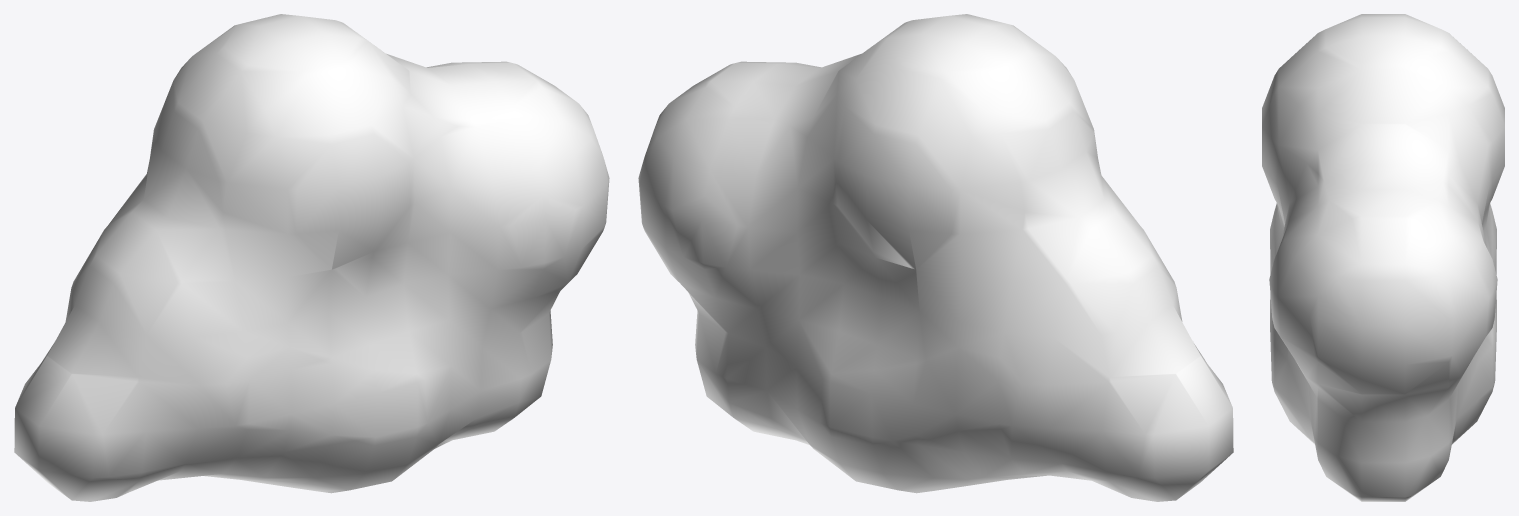
File: cloud6.glb
3 renders of one model, left to right at view 1: azimuth 30°, elevation 25°; view 2: azimuth 150°, elevation 25°; view 3: azimuth 270°, elevation 25°, orthographic. The views are drawn at different scales.
Visible parts, largest first — view 1: Mball.007; view 2: Mball.007; view 3: Mball.007.
Boxes of the visible parts, left/top/right/bottom form: Mball.007: left=14, top=14, right=609, bottom=501; Mball.007: left=638, top=14, right=1233, bottom=501; Mball.007: left=1262, top=14, right=1504, bottom=501.
Size of the model in its own units: 4.1 by 3.19 by 1.71.
Materials: 1 (1 with a texture image).
